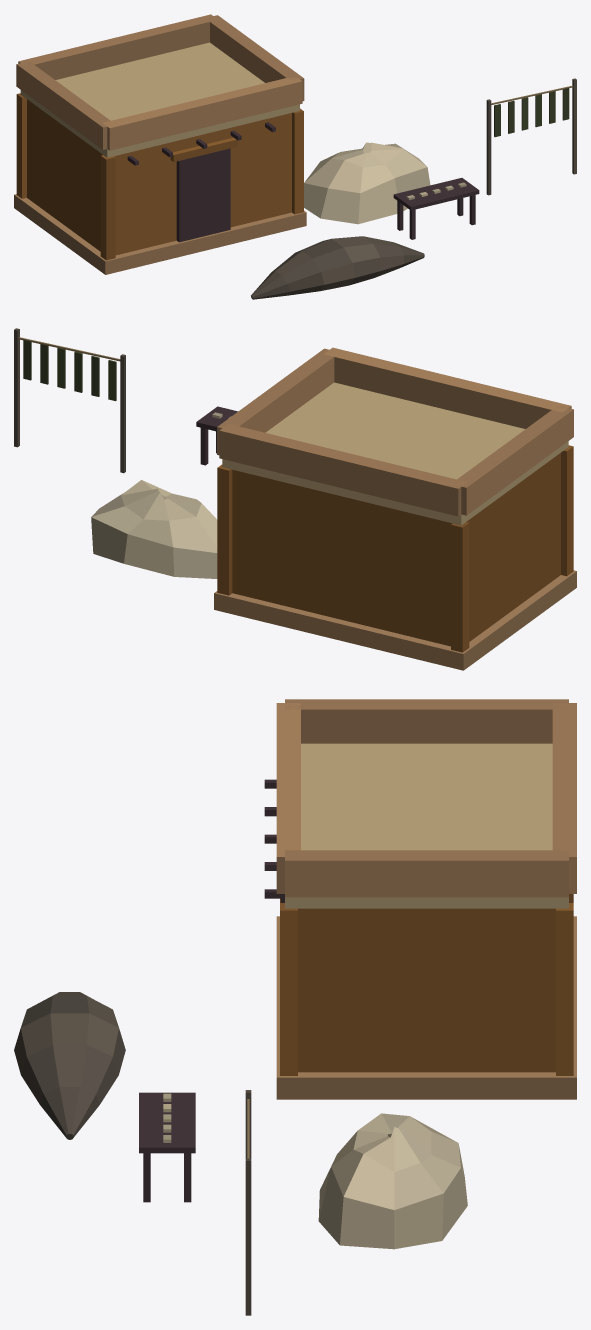
File: walk_hive_pearls.glb
3 renders of one model, top to bottom at view 1: azimuth 30°, elevation 25°; view 2: azimuth 150°, elevation 25°; view 3: azimuth 270°, elevation 25°, orthographic. The views are drawn at different scales.
Parts seen in each view (by area): view 1: walk_hive_pearls, walk_hive_pearls_roof; view 2: walk_hive_pearls, walk_hive_pearls_roof; view 3: walk_hive_pearls, walk_hive_pearls_roof.
Part boxes in pixels (box(x1,y1,x2,y2)): walk_hive_pearls: box(14, 78, 576, 299); walk_hive_pearls_roof: box(16, 14, 304, 157); walk_hive_pearls: box(14, 328, 576, 670); walk_hive_pearls_roof: box(217, 347, 573, 525); walk_hive_pearls: box(14, 779, 576, 1315); walk_hive_pearls_roof: box(276, 699, 576, 908).
Size of what is drawn, in the model's own units: 10.79 by 3.78 by 6.94.
Materials: 1 (1 with a texture image).
